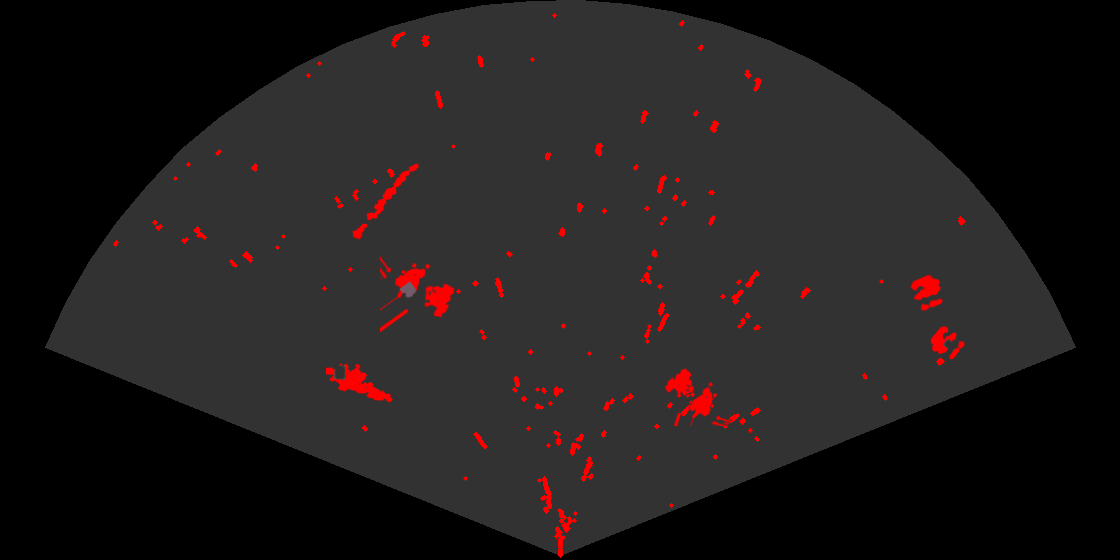ball: (908, 273, 945, 313), (929, 325, 966, 361)
cage: (380, 254, 456, 334), (663, 367, 732, 426)
chain: (351, 162, 421, 241)
frogman: (326, 362, 394, 404)
